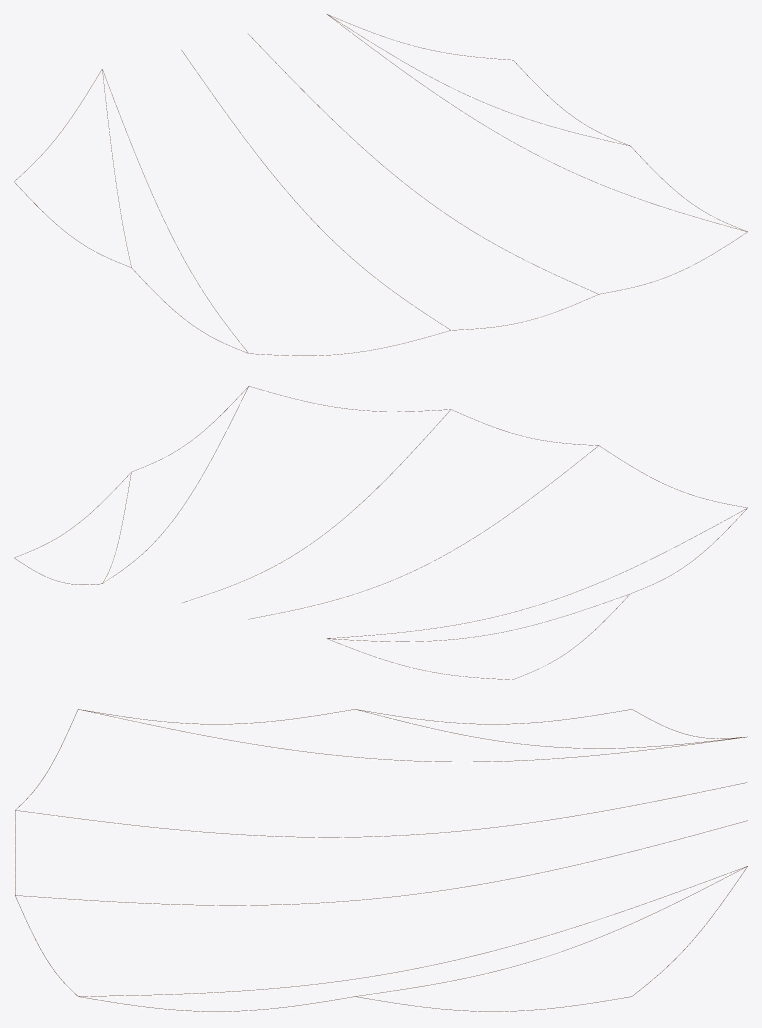
The model's file is sp_roof_lights.glb.
The picture shows the model from 3 angles, top to bottom: view 1: azimuth 30°, elevation 25°; view 2: azimuth 150°, elevation 25°; view 3: azimuth 270°, elevation 25°; orthographic projection. The views are drawn at different scales.
Visible parts, largest first — view 1: spire; view 2: spire; view 3: spire.
Boxes of the visible parts, x1,y1,x2,y2 form: spire: [14, 14, 747, 357]; spire: [14, 386, 747, 680]; spire: [14, 709, 747, 1013].
Size of the model in its own units: 54.18 by 6.28 by 58.31.
2 materials, 1 textured.
